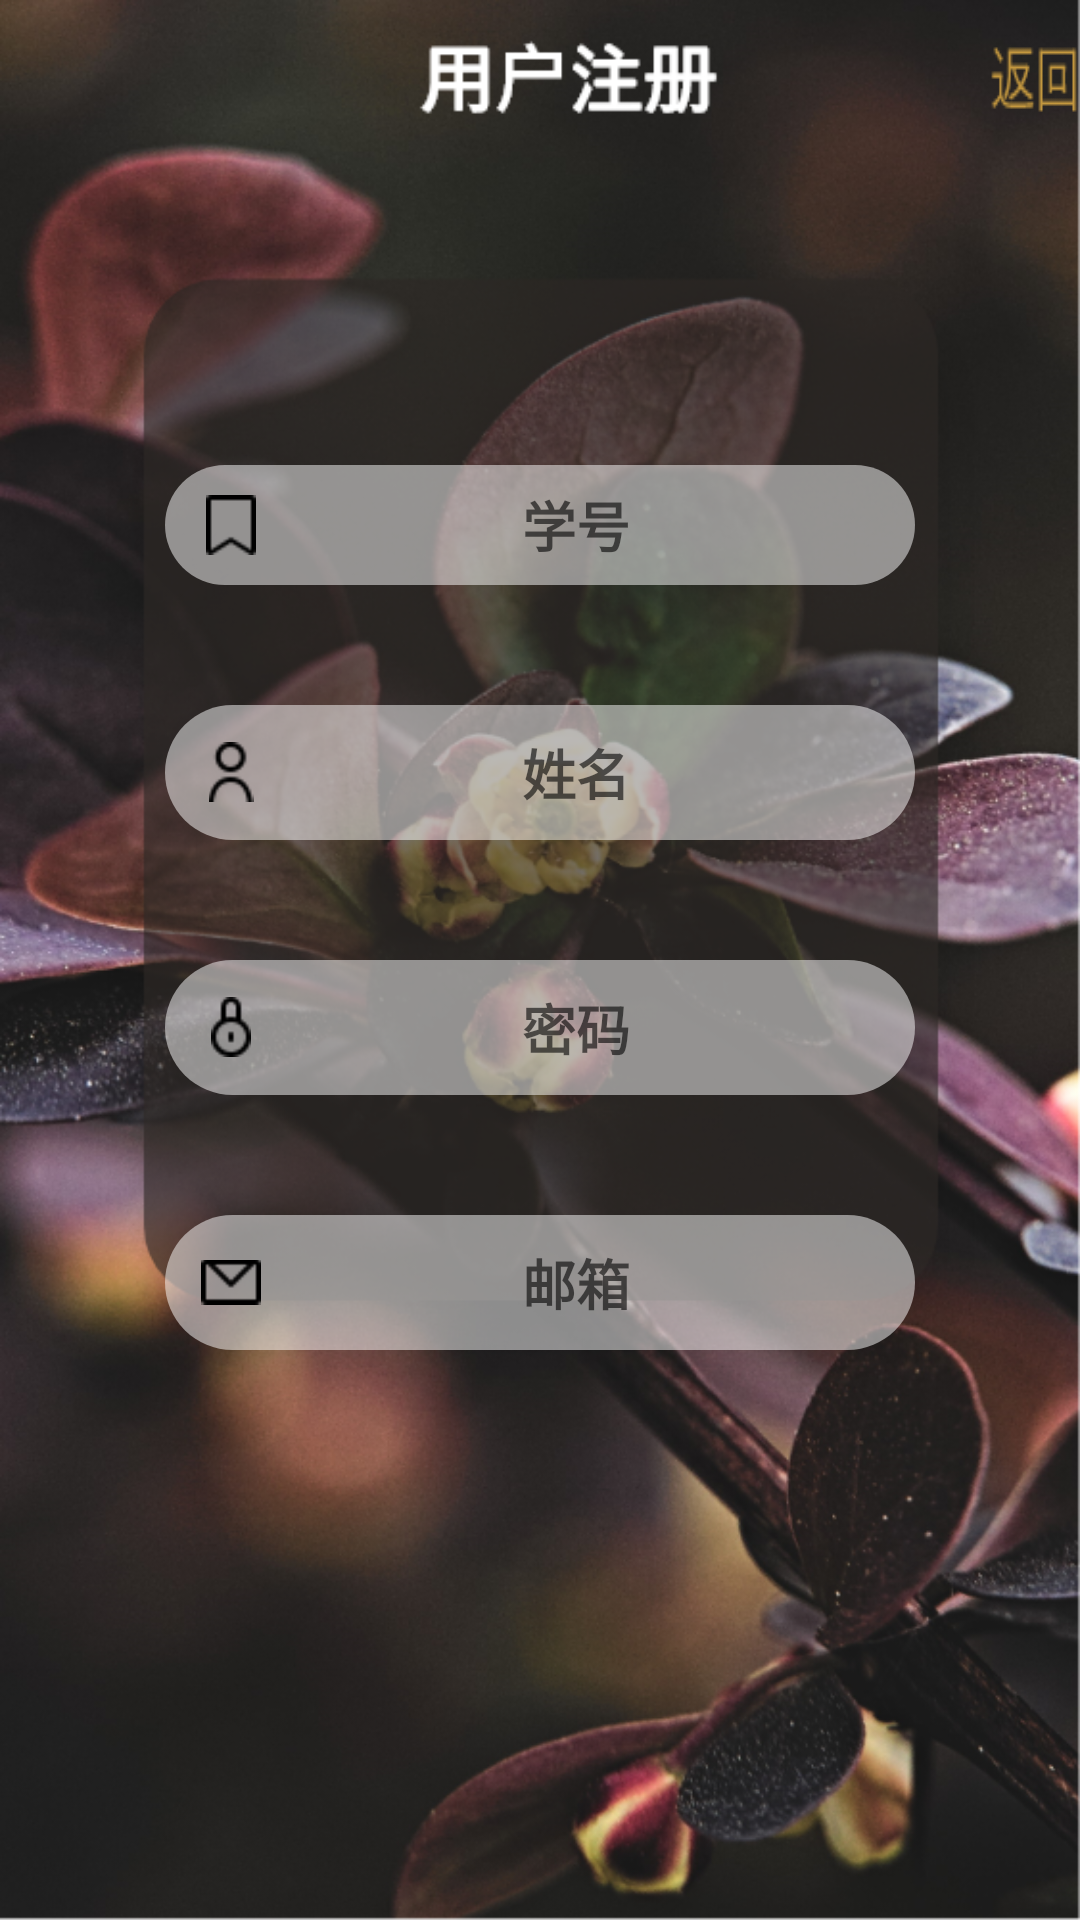

Named icons in this screenshot (1080×1920) and their centers, (x,y):
bookmark: (231,525)
letter: (231,1282)
lock closed: (231,1027)
user: (231,772)
